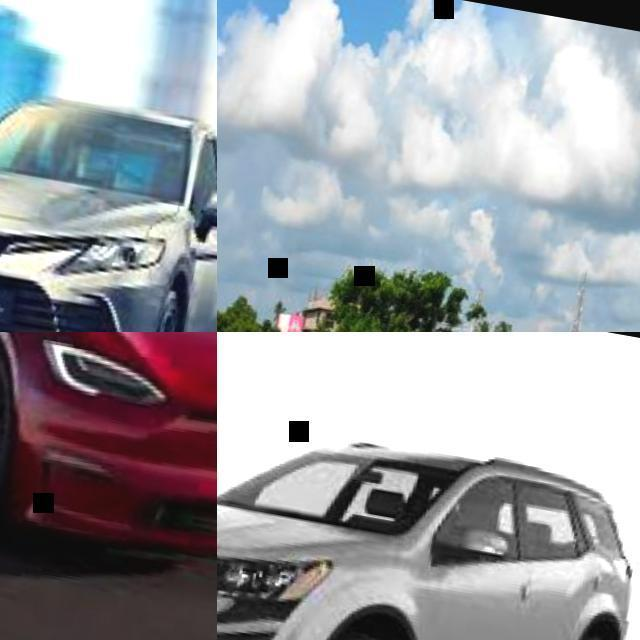car: (225, 431, 631, 640), (0, 17, 215, 328), (0, 334, 214, 566)
